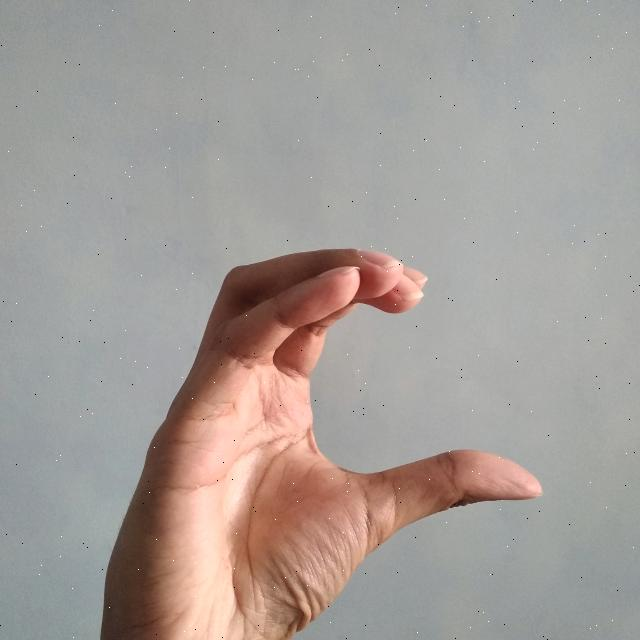C: (100, 245, 538, 640)
